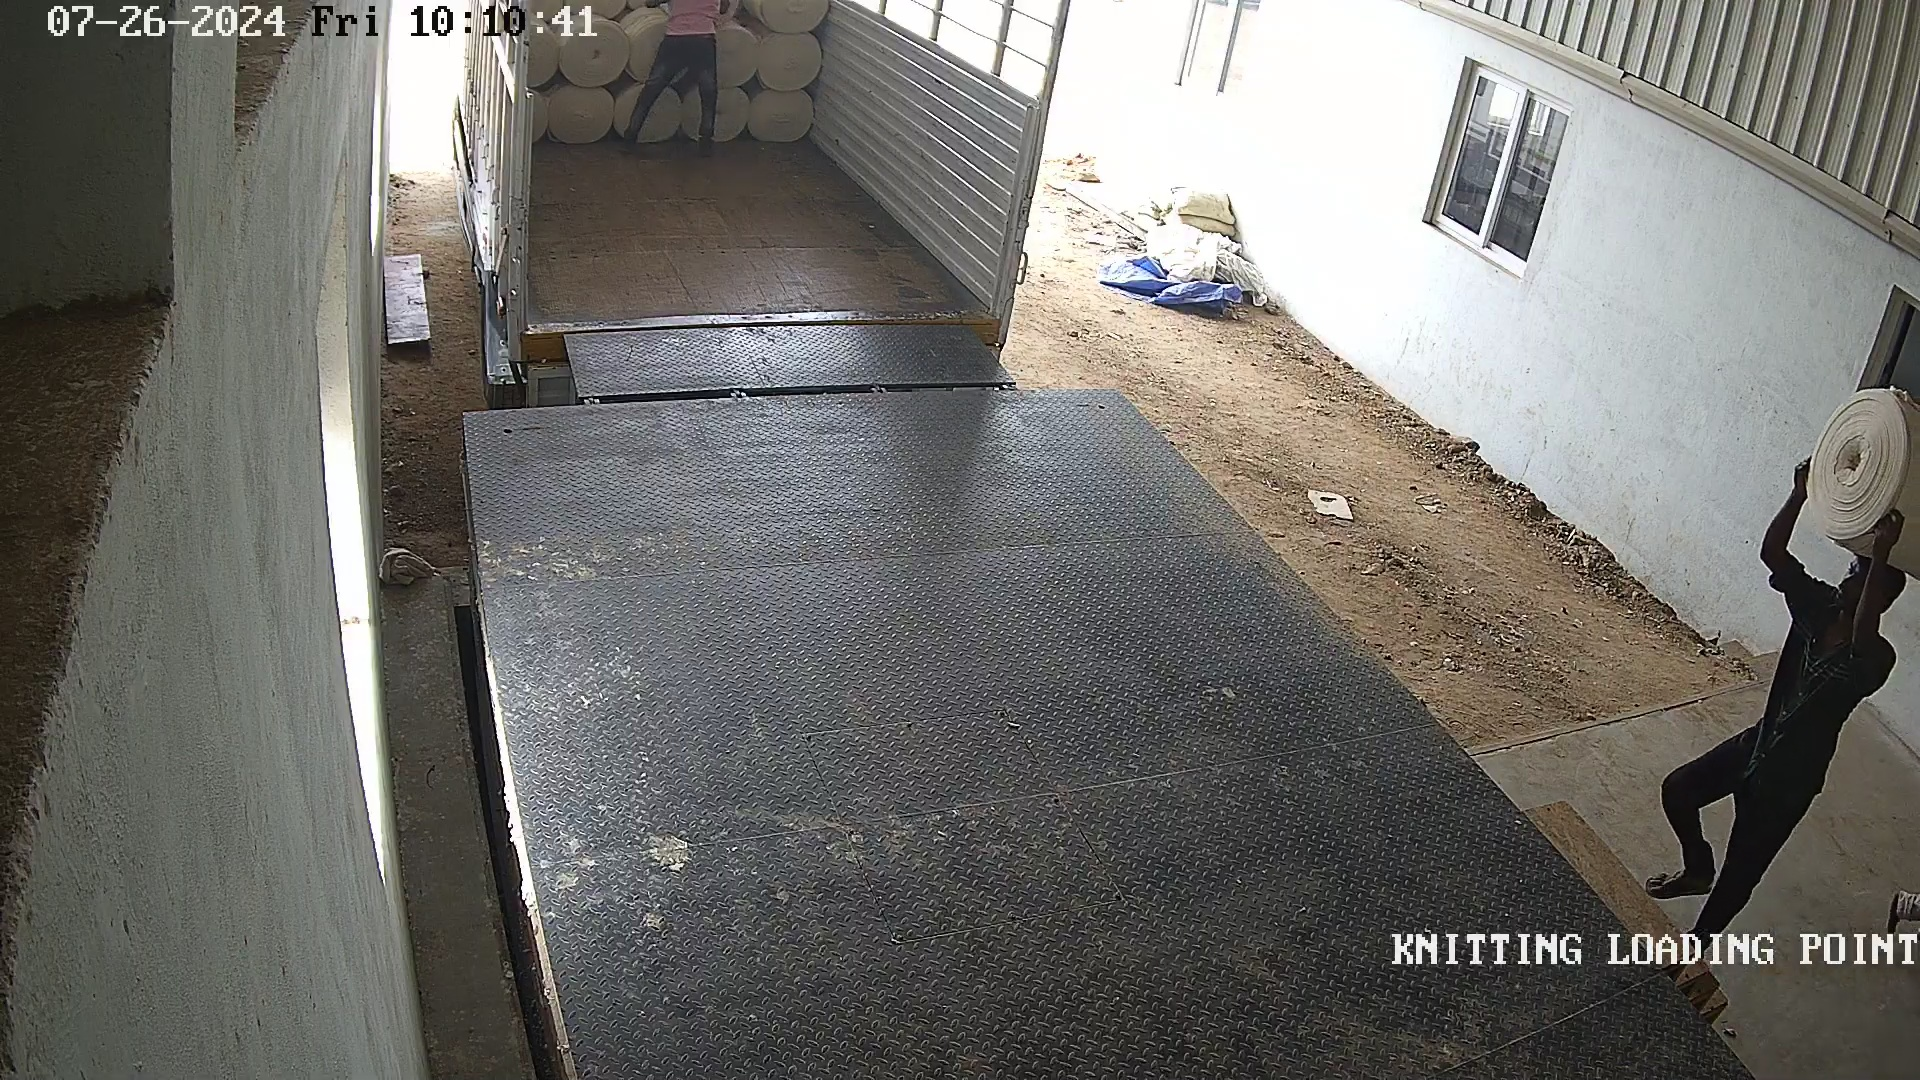bag: (1782, 386, 1920, 582)
